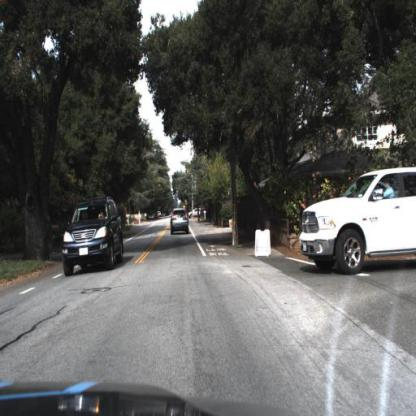car: (301, 166, 416, 278), (63, 198, 125, 275), (164, 200, 195, 243)
